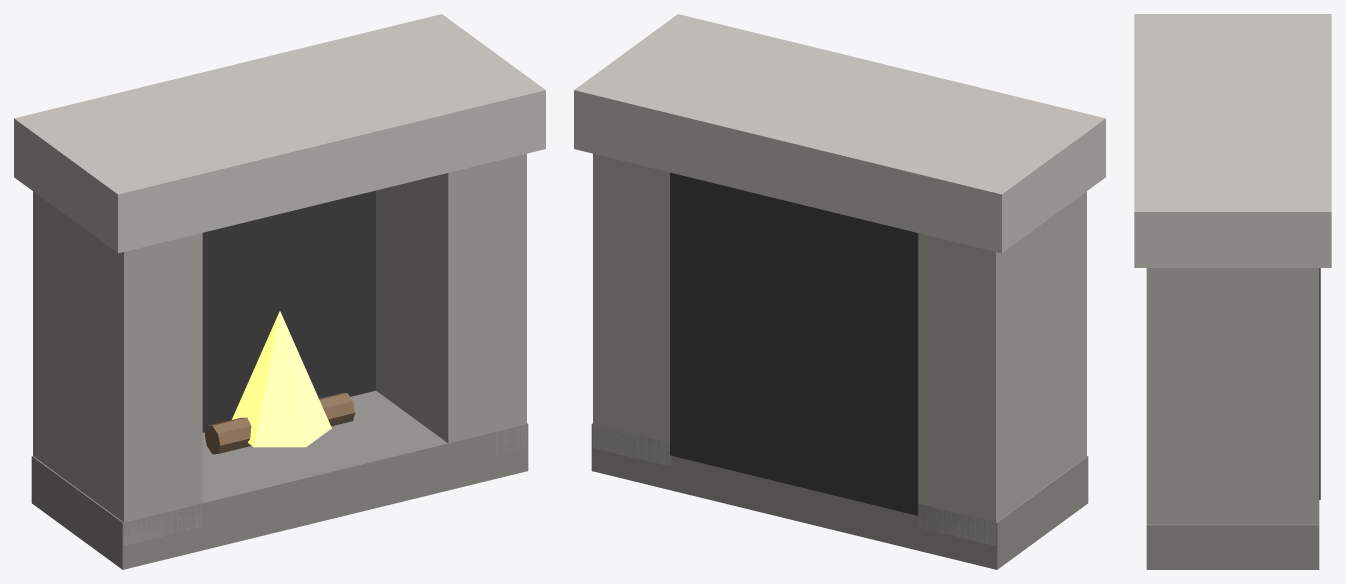
Rendered from fireplace.glb.
3 views of the same model, side by side, from view 1: azimuth 30°, elevation 25°; view 2: azimuth 150°, elevation 25°; view 3: azimuth 270°, elevation 25° (orthographic). The views are drawn at different scales.
Visible parts, largest first — view 1: fireplace; view 2: fireplace; view 3: fireplace.
Part boxes in pixels (x1,y1,x2,y2): fireplace: (14,14,545,569); fireplace: (574,14,1105,569); fireplace: (1134,14,1331,569).
Size of the model in its own units: 1.9 by 1.62 by 0.8.
